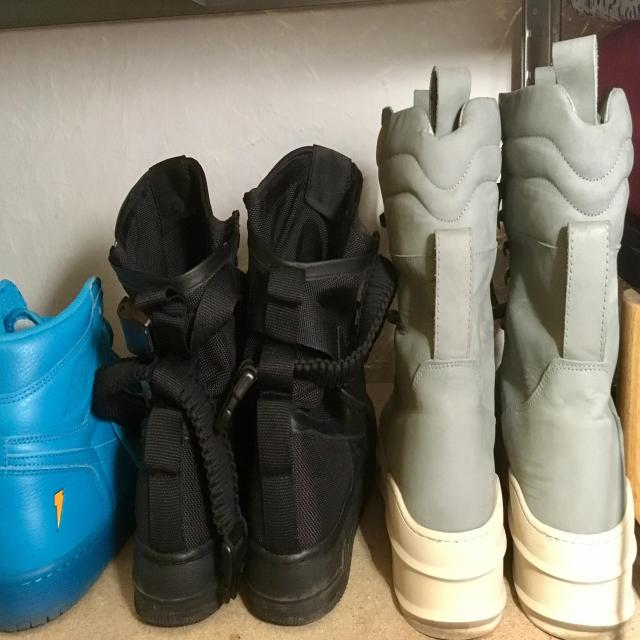shoe: (489, 29, 638, 640), (361, 52, 513, 640), (224, 131, 390, 632), (92, 146, 246, 634), (0, 260, 151, 632)
